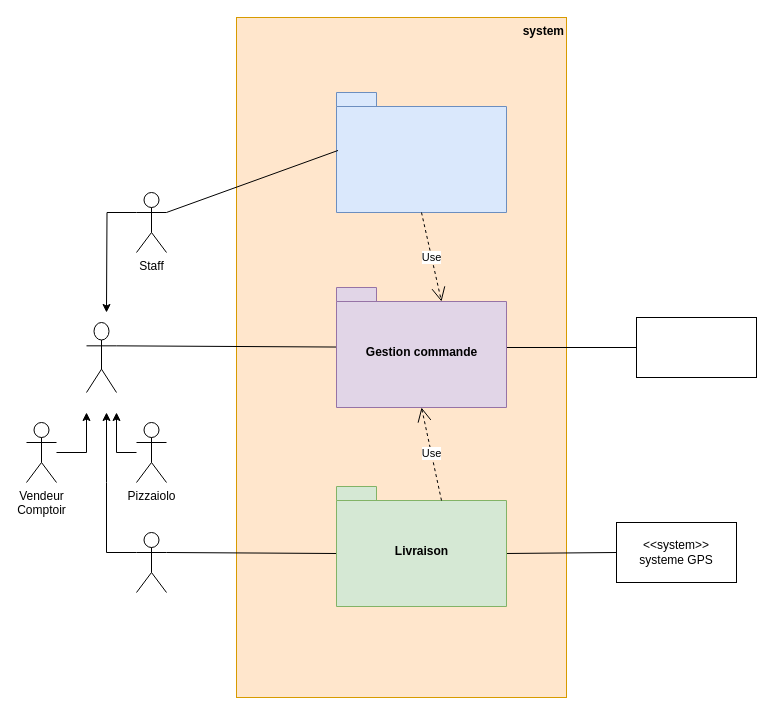
The diagram is 774 pixels wide and 715 high, and some of its shapes have lost their labels. The centre of each missing label's shape, as x and y in pixels:
"<<system>> systeme de paiement" goes at [696,347].
"Client" goes at [101,357].
"Gestion Administrative" goes at [421,152].
"Livreur" goes at [151,562].
